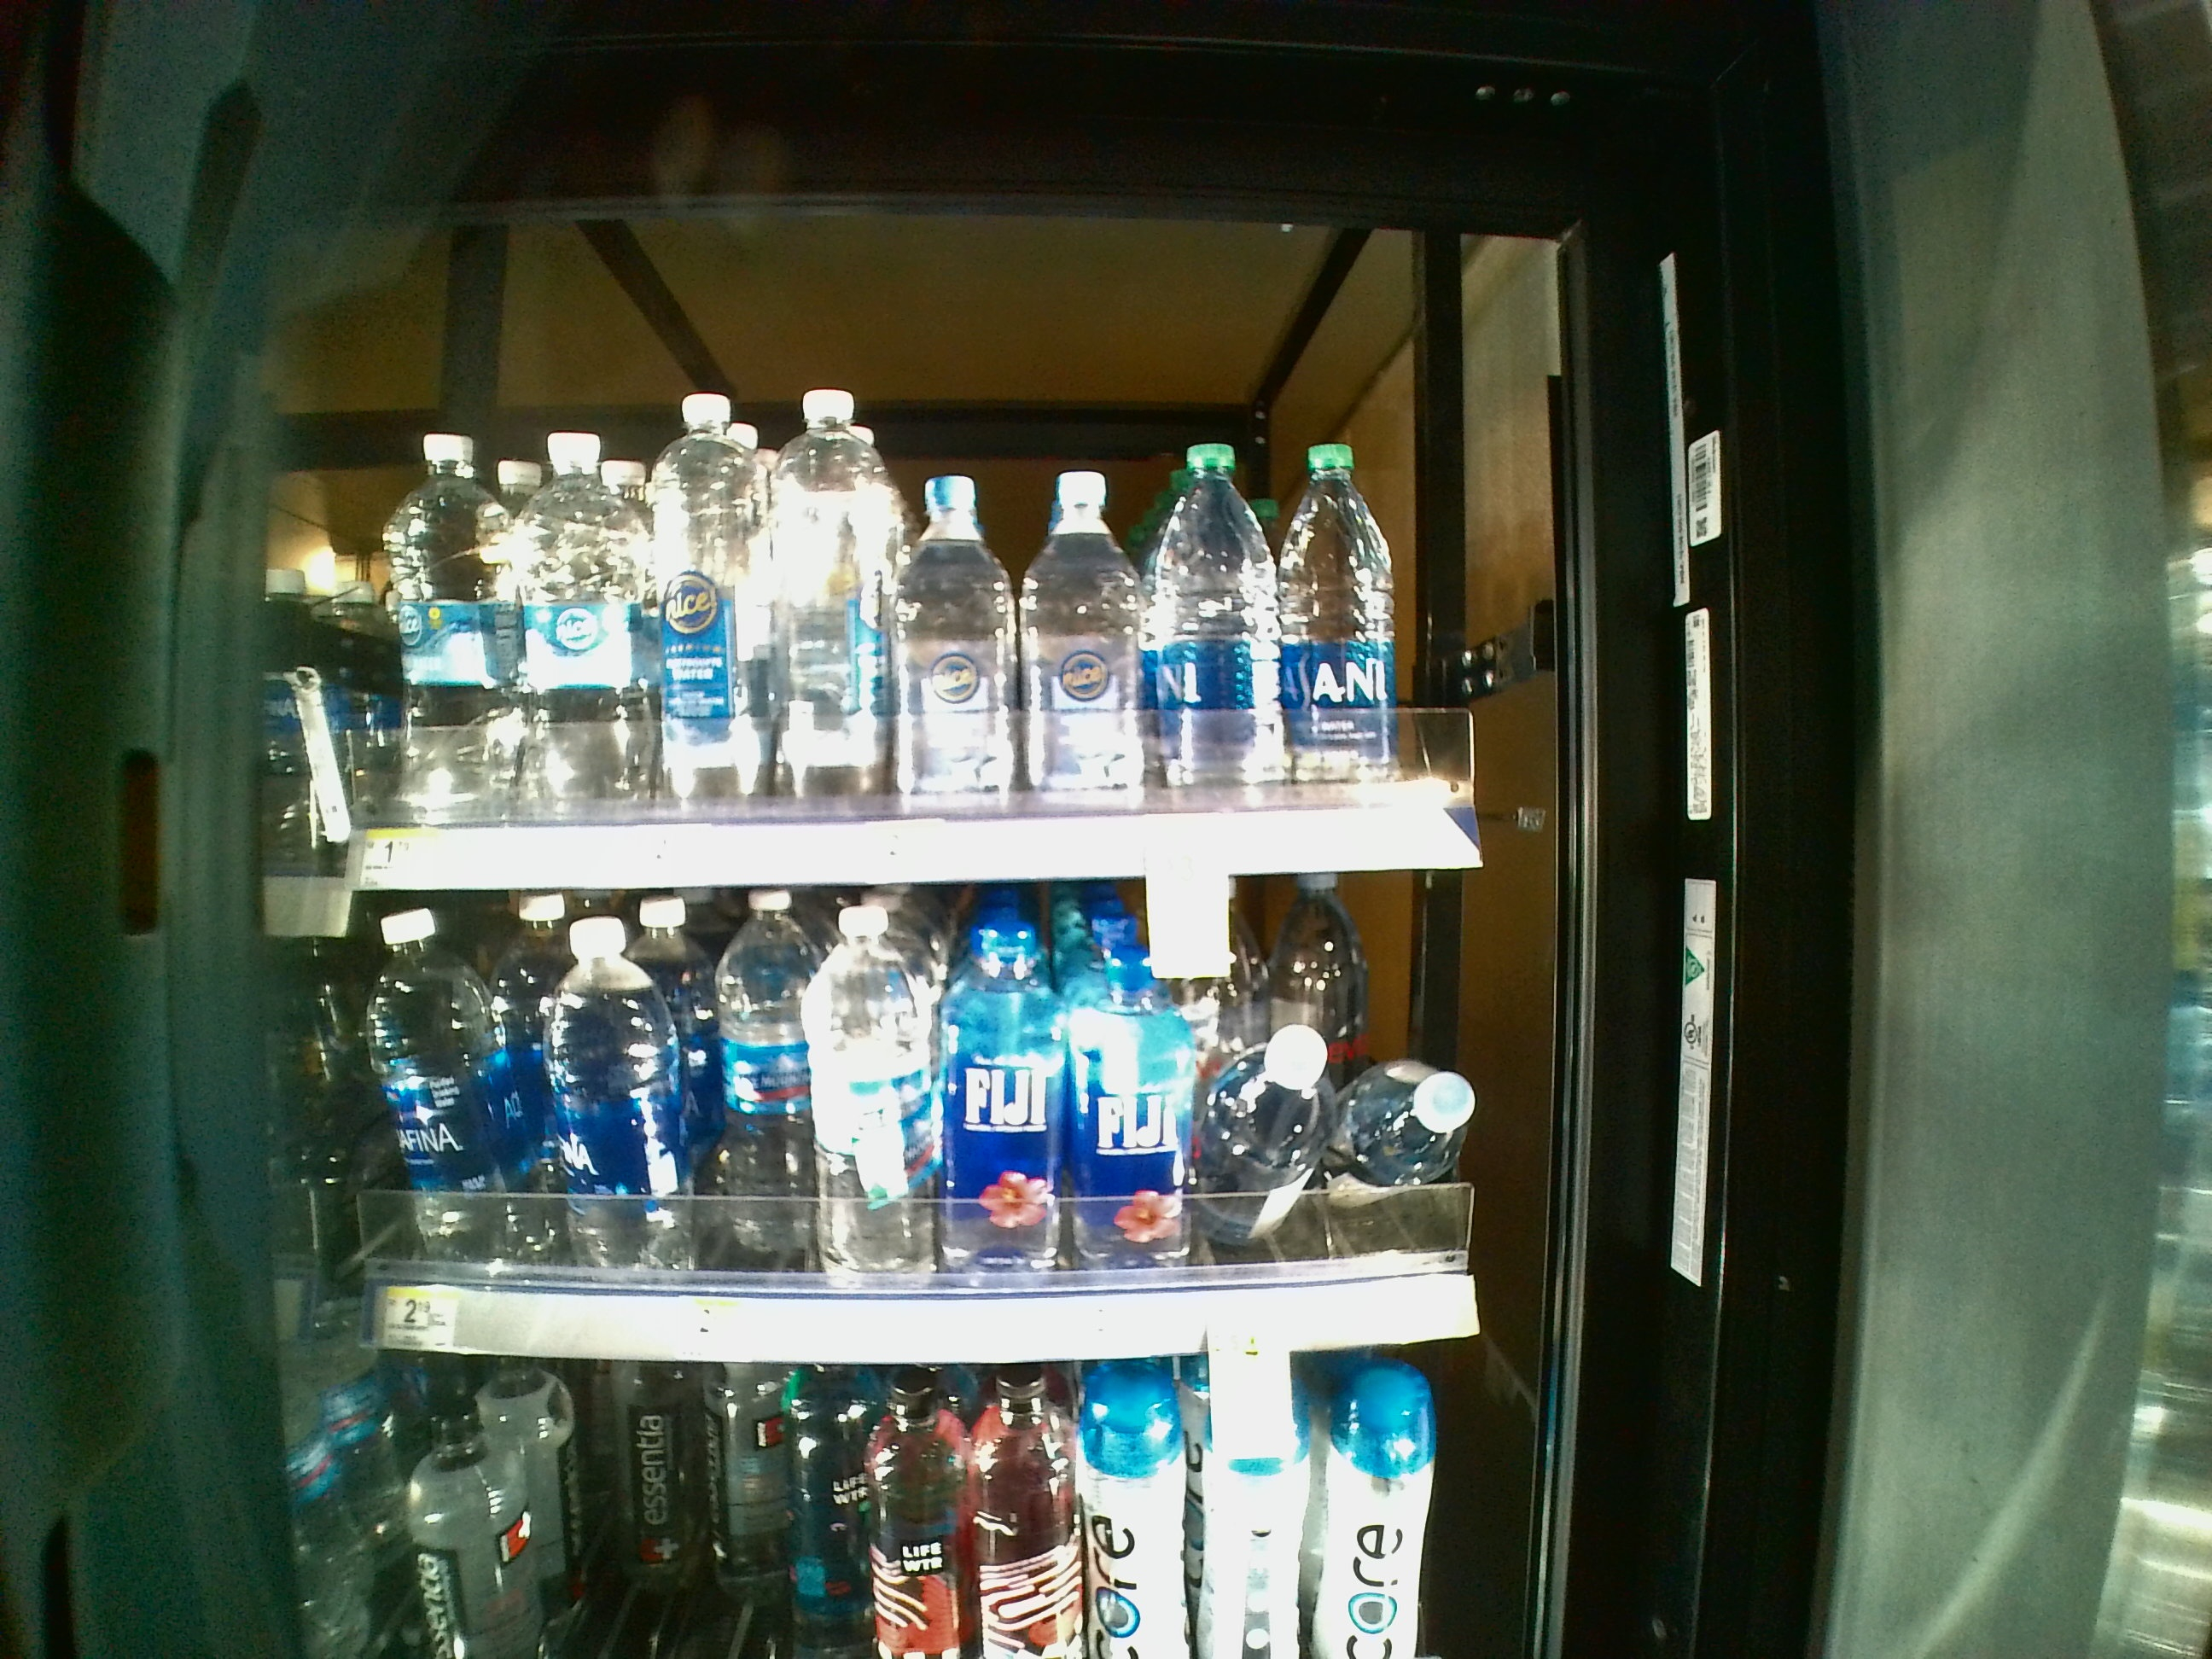Shelf: (324, 307, 1571, 897), (315, 899, 1569, 1364)
